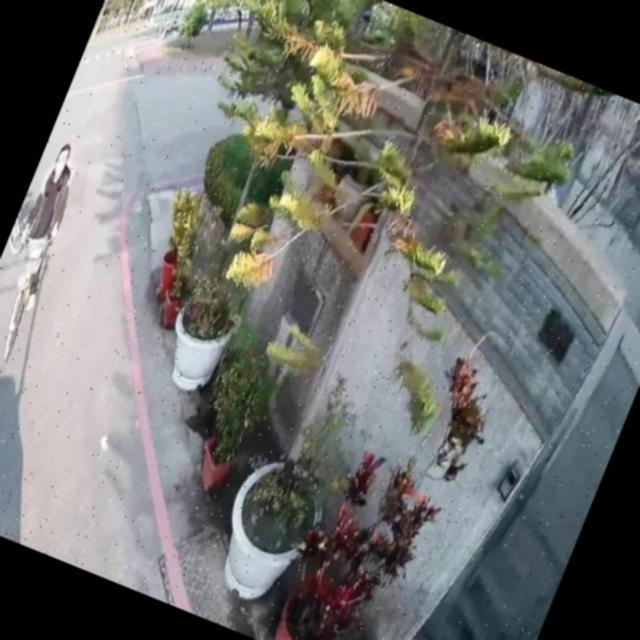person: (0, 136, 98, 319)
